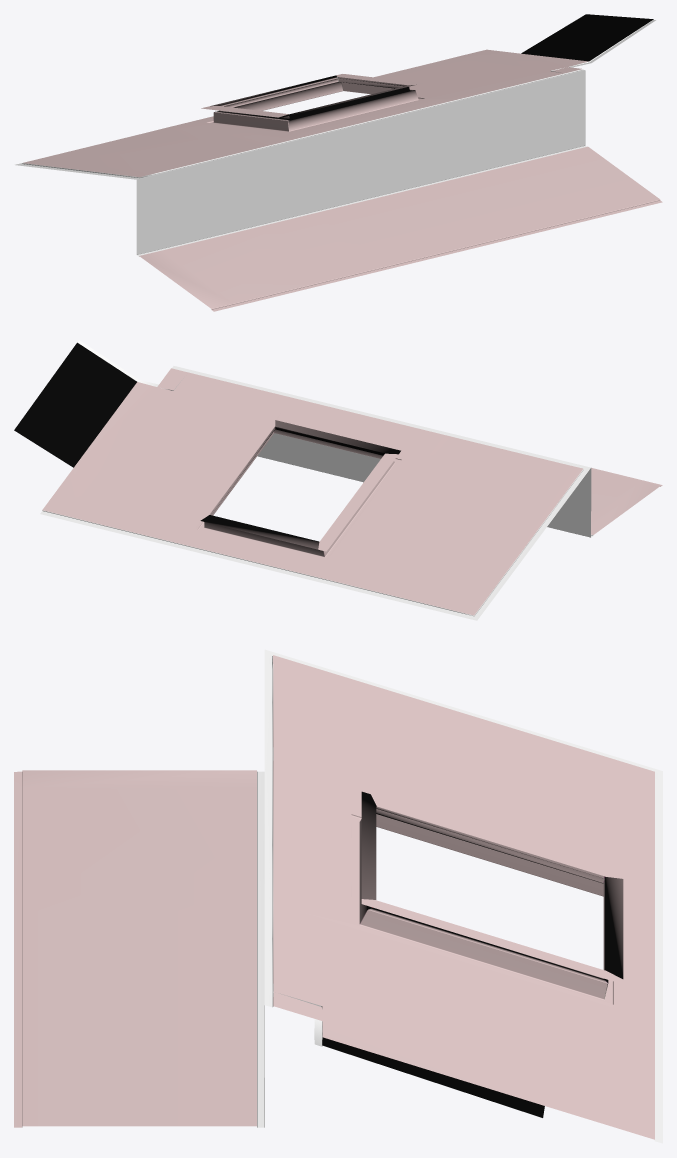
The model's file is SR_SectionCeiling_01.fbx.
3 views of the same model, one above another, from view 1: azimuth 30°, elevation 25°; view 2: azimuth 150°, elevation 25°; view 3: azimuth 270°, elevation 25° (orthographic). The views are drawn at different scales.
Parts seen in each view (by area): view 1: SR_SectionCeiling_01_LOD0; view 2: SR_SectionCeiling_01_LOD0; view 3: SR_SectionCeiling_01_LOD0.
Part boxes in pixels (<box>): SR_SectionCeiling_01_LOD0: <box>15,14,662,311</box>; SR_SectionCeiling_01_LOD0: <box>14,340,662,620</box>; SR_SectionCeiling_01_LOD0: <box>14,649,662,1143</box>.
Size of the model in its own units: 6377 by 1063 by 4126.
